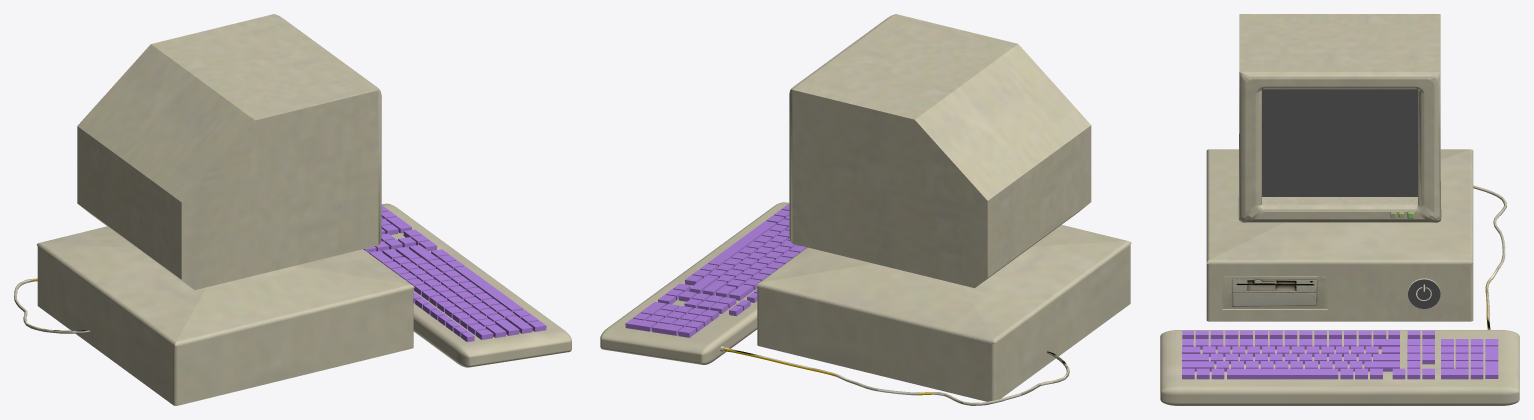
File: Off_Button_Computer_3.glb
3 views of the same model, side by side, from view 1: azimuth 30°, elevation 25°; view 2: azimuth 150°, elevation 25°; view 3: azimuth 270°, elevation 25° (orthographic). The views are drawn at different scales.
Parts seen in each view (by area): view 1: PC; view 2: PC; view 3: PC, Onbutton.
Boxes of the visible parts, x1,y1,x2,y2 form: PC: [14, 14, 571, 405]; PC: [600, 14, 1131, 405]; PC: [1160, 14, 1519, 405]; Onbutton: [1408, 279, 1440, 308].
Bounding box in the file's own units: 1.36 × 0.8486 × 1.05.
4 materials, 1 textured.
